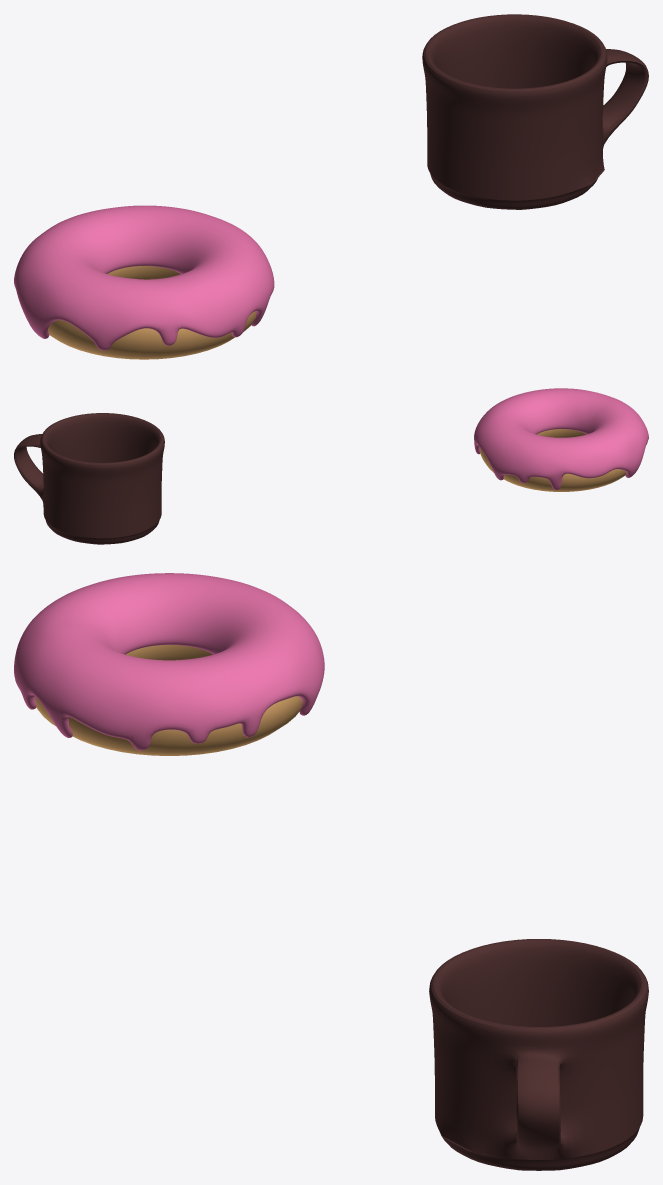
The model's file is donut and coffee.fbx.
3 renders of one model, top to bottom at view 1: azimuth 30°, elevation 25°; view 2: azimuth 150°, elevation 25°; view 3: azimuth 270°, elevation 25°, orthographic. The views are drawn at different scales.
Parts seen in each view (by area): view 1: Mug, Icing, Donut; view 2: Mug, Icing, Donut; view 3: Mug, Icing, Donut.
Part boxes in pixels (bbox=[...]): Mug: bbox=[422, 14, 648, 209]; Icing: bbox=[14, 205, 274, 350]; Donut: bbox=[48, 266, 256, 359]; Mug: bbox=[14, 413, 164, 544]; Icing: bbox=[474, 388, 648, 490]; Donut: bbox=[479, 429, 625, 491]; Mug: bbox=[429, 939, 648, 1170]; Icing: bbox=[14, 573, 324, 750]; Donut: bbox=[35, 645, 302, 755].
Bounding box in the file's own units: 97.49 × 21.73 × 58.93.
